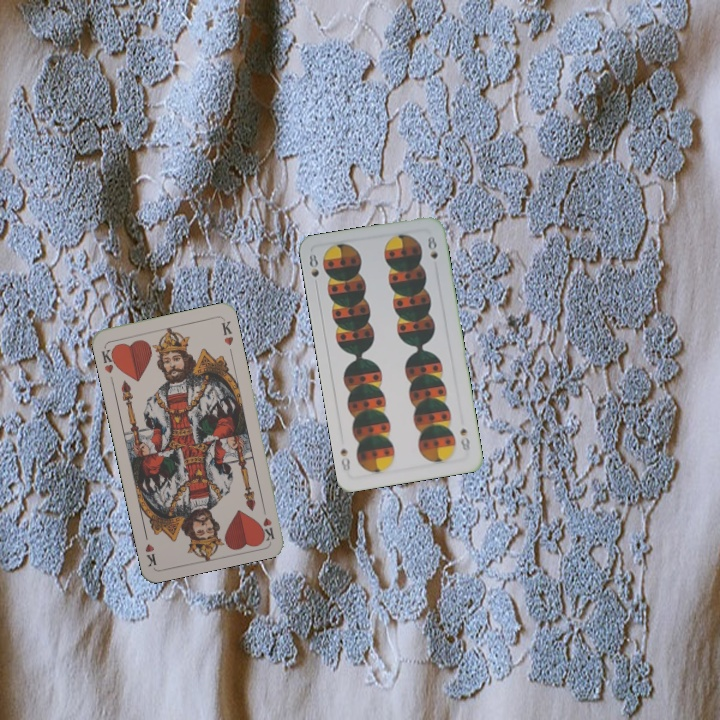HK: (258, 501, 277, 542), (97, 344, 120, 376)
S8: (305, 250, 322, 290), (456, 424, 472, 453)
